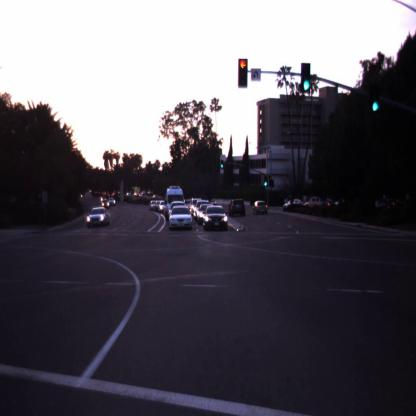trafficlight: (238, 58, 249, 89), (300, 62, 311, 93), (370, 84, 380, 112), (263, 176, 268, 188), (220, 160, 224, 170)
